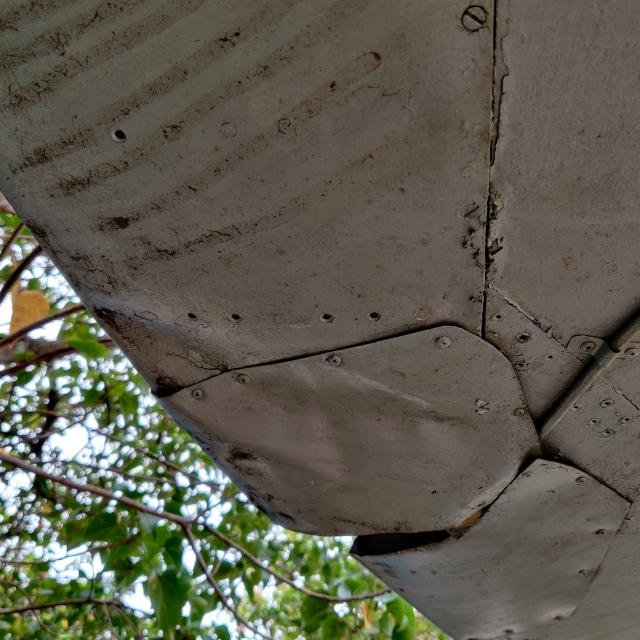dent: (81, 286, 482, 503)
